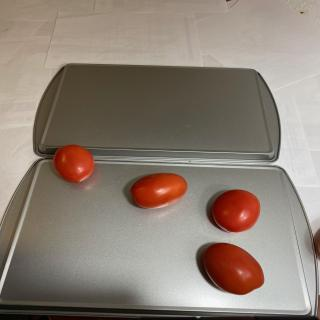Tomato: (203, 242, 265, 296), (130, 172, 188, 209), (212, 189, 260, 233), (53, 144, 95, 183)
